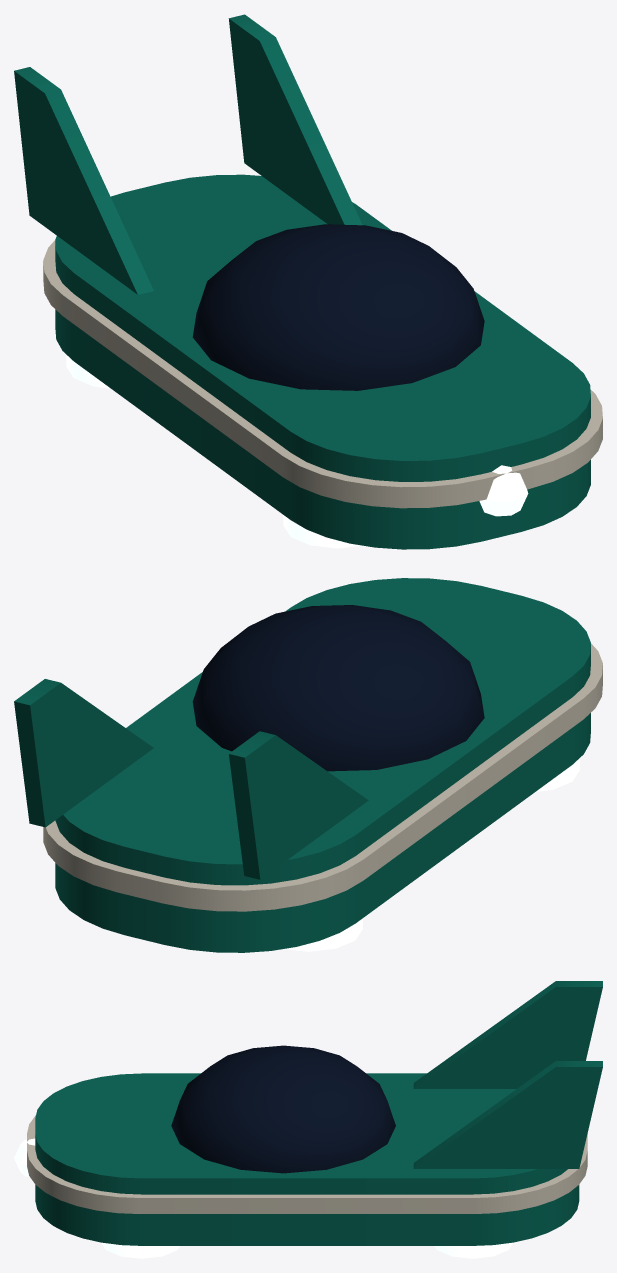
Rendered from hover_car_teal.glb.
3 views of the same model, one above another, from view 1: azimuth 30°, elevation 25°; view 2: azimuth 150°, elevation 25°; view 3: azimuth 270°, elevation 25° (orthographic). The views are drawn at different scales.
Visible parts, largest first — view 1: hover_car_teal; view 2: hover_car_teal; view 3: hover_car_teal.
Part boxes in pixels (<box>): hover_car_teal: <box>14,14,602,549</box>; hover_car_teal: <box>14,578,602,952</box>; hover_car_teal: <box>14,981,602,1258</box>.
Size of the model in its own units: 2.24 by 1.7 by 4.98.
